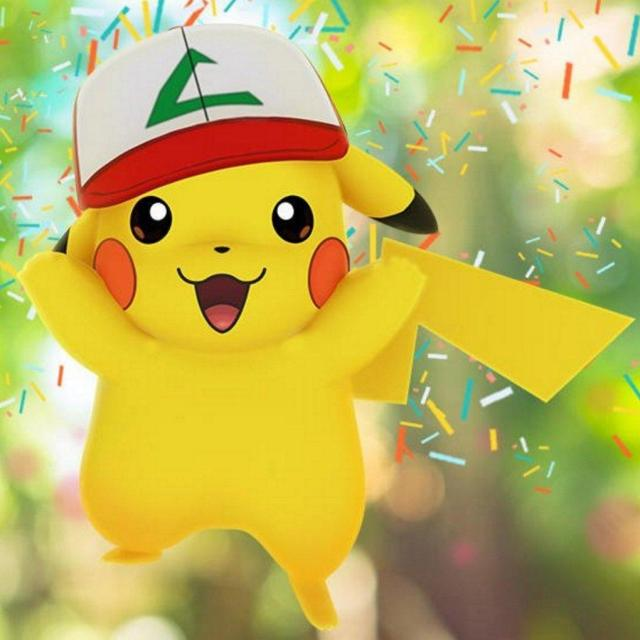pikachu: (18, 136, 634, 631)
